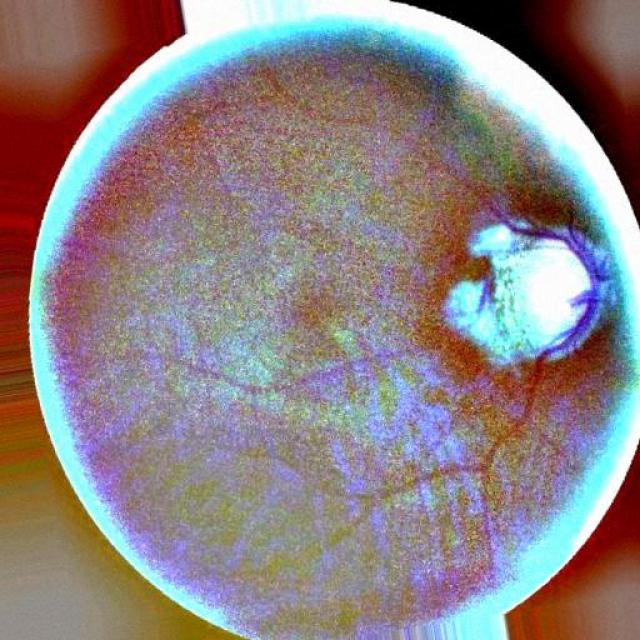Nerves: (466, 195, 616, 476), (479, 265, 495, 309)
Optic Disk: (442, 219, 612, 365)
